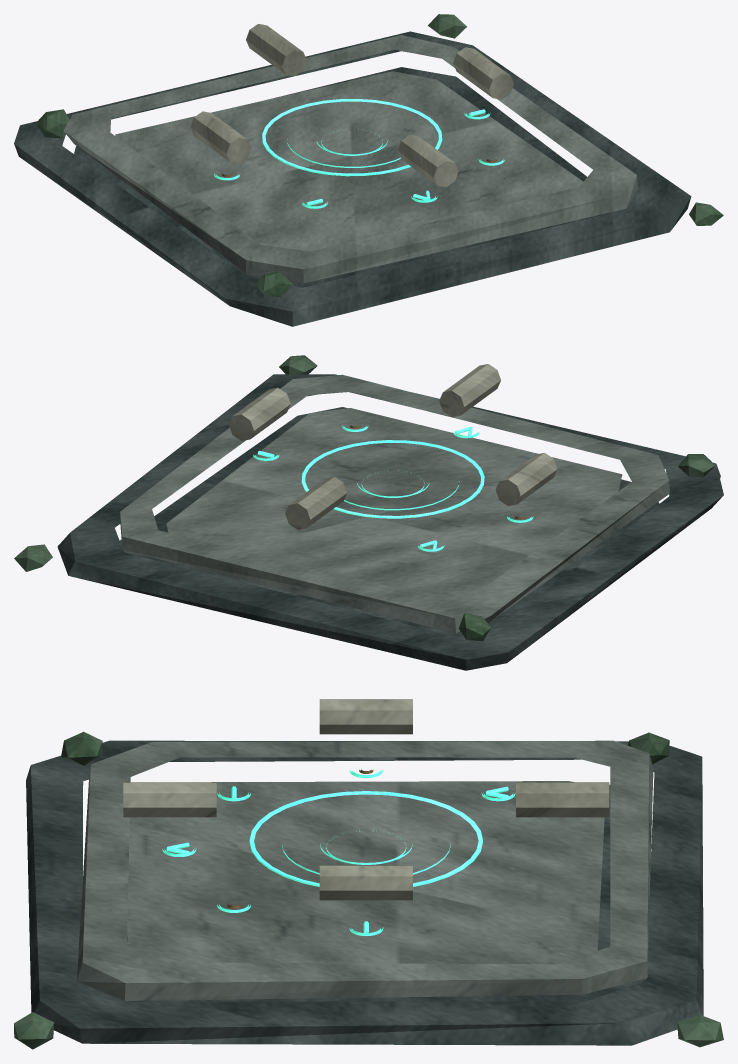
The model's file is 0552_rune_dais_02.glb.
3 renders of one model, top to bottom at view 1: azimuth 30°, elevation 25°; view 2: azimuth 150°, elevation 25°; view 3: azimuth 270°, elevation 25°, orthographic. The views are drawn at different scales.
Parts seen in each view (by area): view 1: stone, stone_dark, stone_light, moss, glow; view 2: stone, stone_dark, stone_light, moss, glow; view 3: stone, stone_dark, stone_light, moss, glow.
Boxes of the visible parts, x1,y1,x2,y2 form: stone: (64,35,637,283); stone_dark: (14,31,691,326); stone_light: (190,24,513,187); moss: (35,14,723,297); glow: (214,99,504,208); stone: (120,374,669,633); stone_dark: (57,374,723,670); stone_light: (229,364,557,529); moss: (14,355,715,641); glow: (253,425,533,551); stone: (77,740,653,1000); stone_dark: (26,740,703,1045); stone_light: (123,699,609,900); moss: (14,731,723,1049); glow: (162,769,515,936).
Bounding box in the file's own units: 3.72 × 0.7114 × 3.8.
6 materials, 6 textured.
